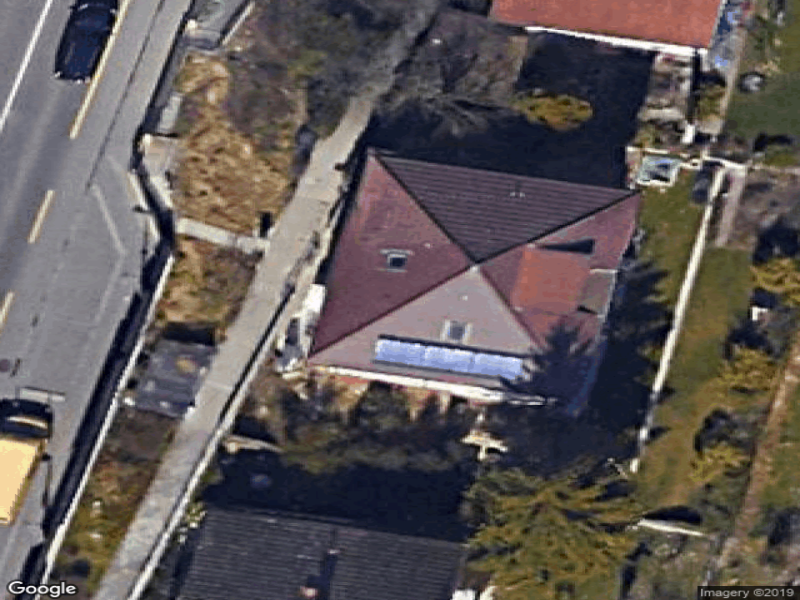pv: (373, 335, 525, 385)
